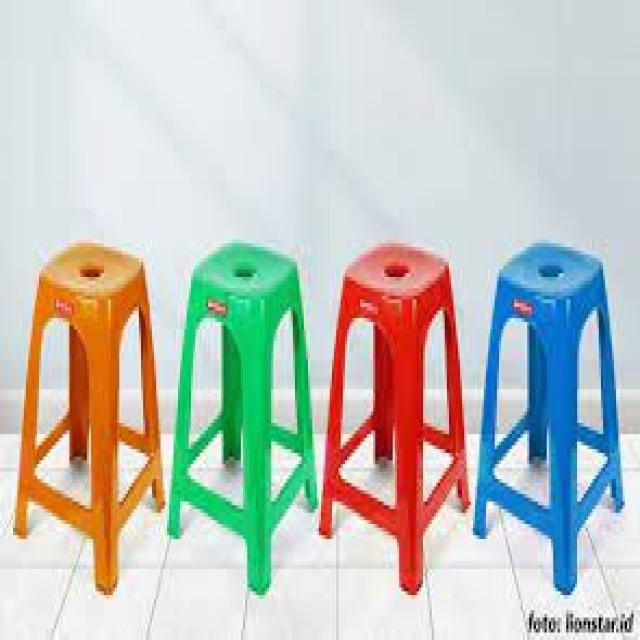chair: (169, 143, 324, 585), (8, 187, 171, 606), (305, 234, 488, 581), (466, 237, 626, 587)
